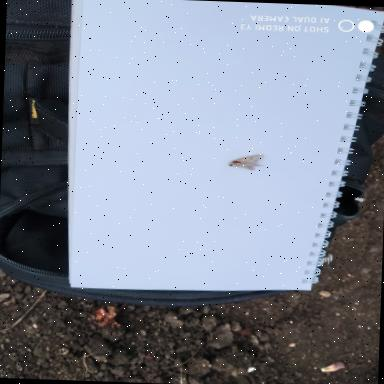abw: (224, 152, 264, 174)
